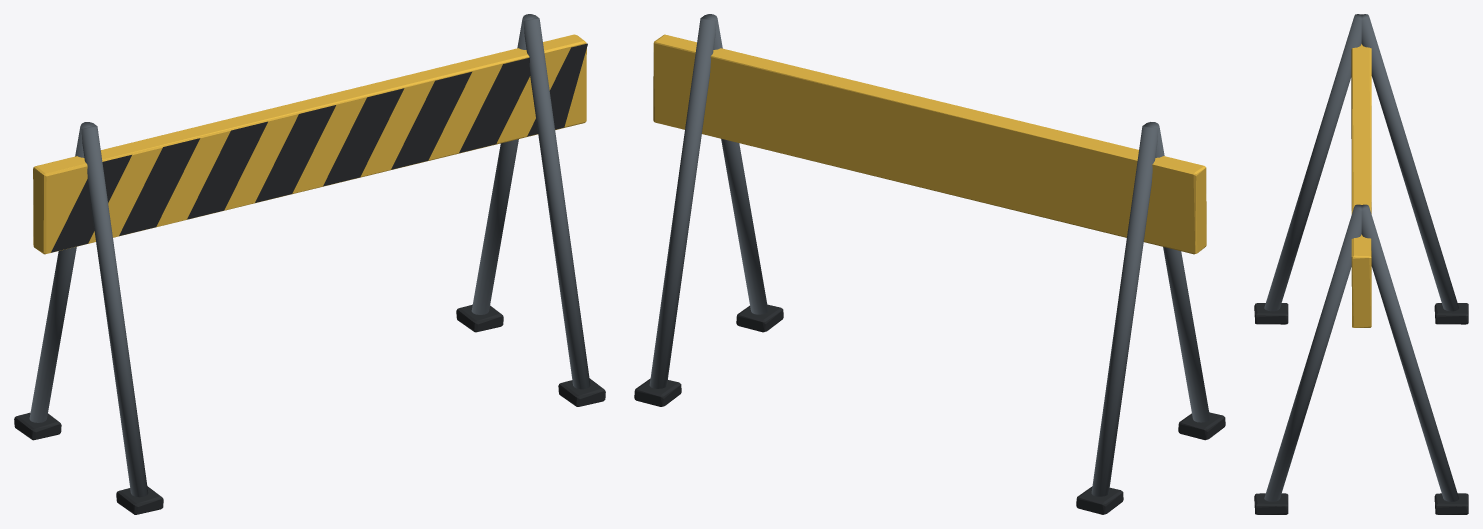
Rendered from DS_Hazard_Barrier_01_LOD1.glb.
3 views of the same model, side by side, from view 1: azimuth 30°, elevation 25°; view 2: azimuth 150°, elevation 25°; view 3: azimuth 270°, elevation 25° (orthographic). The views are drawn at different scales.
Visible parts, largest first — view 1: Barrier_Board, Support_Leg, Support_Leg.002, Support_Leg.001, Support_Leg.003, Diagonal_Stripe.003, Diagonal_Stripe.004, Diagonal_Stripe.002, Diagonal_Stripe.005, Diagonal_Stripe.001, Diagonal_Stripe.006, Diagonal_Stripe (+5 smaller); view 2: Barrier_Board, Support_Leg.001, Support_Leg.003, Support_Leg.002, Support_Leg, Rubber_Foot.001, Rubber_Foot.003, Rubber_Foot.002, Rubber_Foot; view 3: Barrier_Board, Support_Leg.003, Support_Leg.001, Support_Leg, Support_Leg.002, Rubber_Foot, Rubber_Foot.002, Rubber_Foot.001, Rubber_Foot.003.
Boxes of the visible parts, x1,y1,x2,y2 form: Barrier_Board: (33, 34, 586, 254); Support_Leg: (81, 125, 148, 497); Support_Leg.002: (523, 17, 590, 389); Support_Leg.001: (29, 122, 95, 422); Support_Leg.003: (471, 14, 537, 314); Diagonal_Stripe.003: (255, 105, 335, 202); Diagonal_Stripe.004: (323, 88, 404, 186); Diagonal_Stripe.002: (187, 121, 267, 219); Diagonal_Stripe.005: (391, 72, 471, 169); Diagonal_Stripe.001: (119, 138, 200, 235); Diagonal_Stripe.006: (459, 57, 530, 152); Diagonal_Stripe: (51, 155, 131, 252); Barrier_Board: (653, 34, 1206, 254); Support_Leg.001: (1091, 125, 1158, 496); Support_Leg.003: (649, 17, 716, 388); Support_Leg.002: (702, 14, 768, 314); Support_Leg: (1144, 122, 1210, 422); Rubber_Foot.001: (1076, 486, 1123, 514); Rubber_Foot.003: (634, 378, 681, 406); Rubber_Foot.002: (736, 304, 783, 332); Rubber_Foot: (1178, 412, 1225, 440); Barrier_Board: (1351, 44, 1371, 327); Support_Leg.003: (1361, 204, 1458, 501); Support_Leg.001: (1361, 14, 1458, 311); Support_Leg: (1264, 14, 1361, 311); Support_Leg.002: (1264, 204, 1361, 501); Rubber_Foot: (1254, 303, 1288, 324); Rubber_Foot.002: (1254, 493, 1288, 514); Rubber_Foot.001: (1434, 303, 1468, 324); Rubber_Foot.003: (1434, 493, 1468, 514).
Bounding box in the file's own units: 1.6 × 0.9659 × 0.6187.
